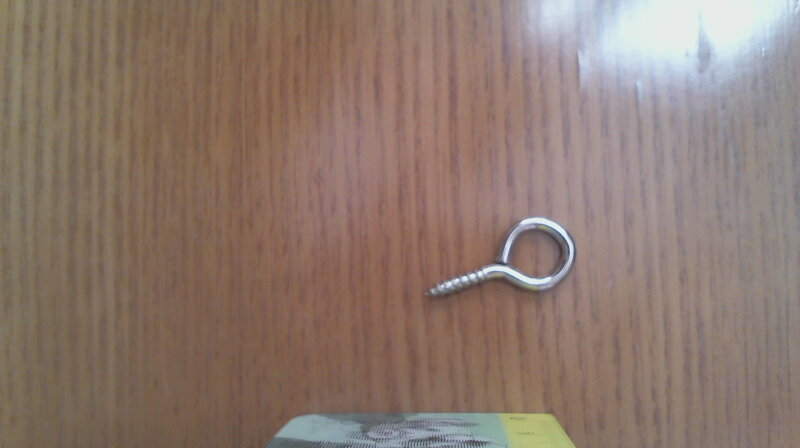O001: (418, 212, 584, 312)
